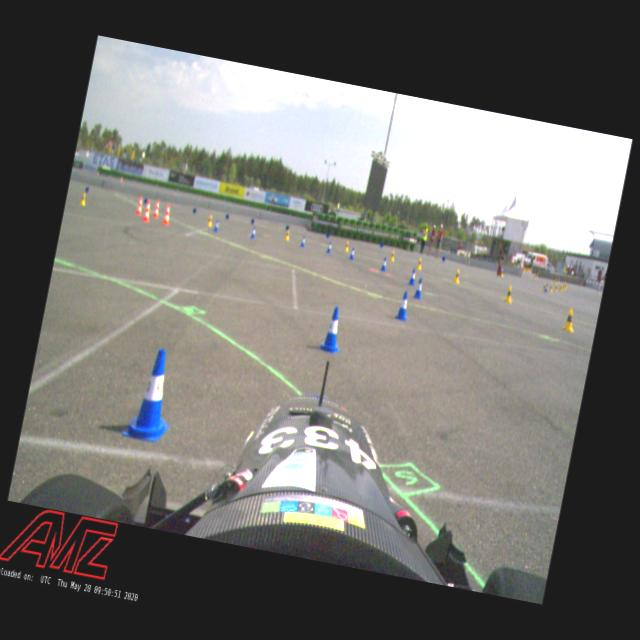blue_cone: (122, 344, 182, 444), (318, 304, 348, 356), (395, 290, 414, 322), (413, 277, 426, 300), (408, 268, 418, 286), (380, 256, 389, 272), (348, 247, 356, 261), (250, 227, 258, 240), (213, 218, 220, 232), (326, 241, 333, 254), (300, 234, 306, 248), (544, 284, 548, 292)
large_orange_cone: (161, 203, 173, 227), (140, 198, 152, 222), (134, 196, 146, 217), (152, 198, 162, 218)
yellow_cone: (561, 307, 578, 333), (504, 285, 514, 304), (452, 268, 462, 284), (79, 192, 87, 206), (416, 257, 424, 271), (207, 214, 214, 228), (388, 250, 396, 262), (344, 240, 351, 253), (284, 229, 291, 242), (548, 283, 554, 293), (542, 282, 547, 292)
